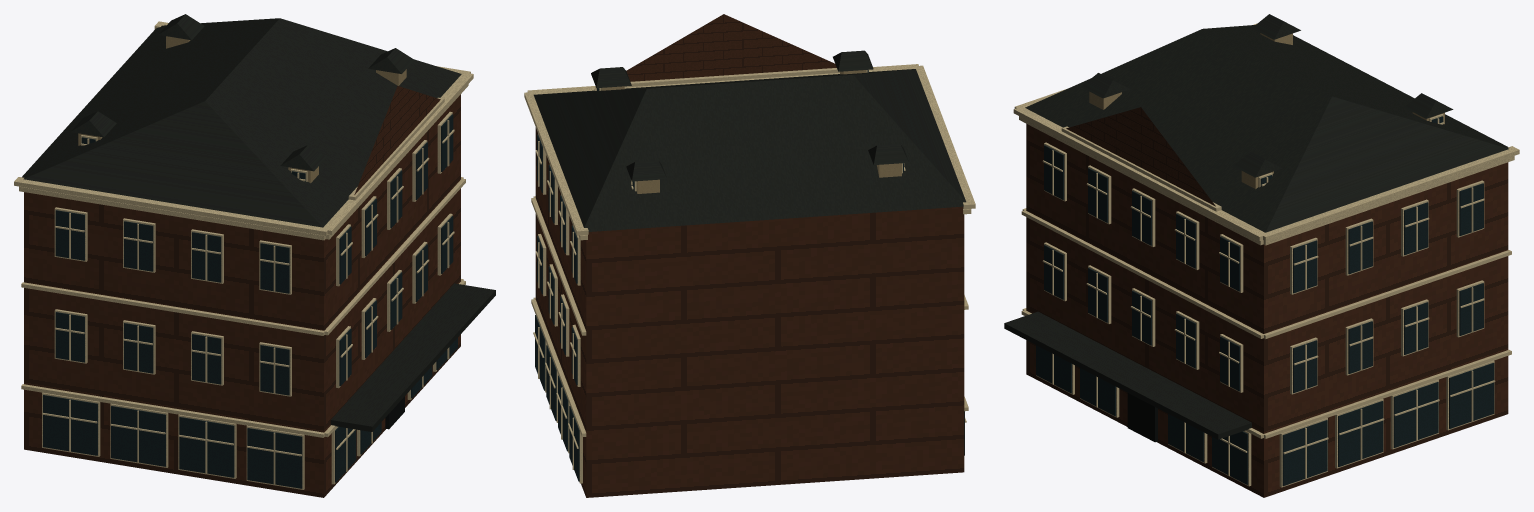
3 renders of one model, left to right at view 1: azimuth 30°, elevation 25°; view 2: azimuth 150°, elevation 25°; view 3: azimuth 270°, elevation 25°, orthographic. The views are drawn at different scales.
Visible parts, largest first — view 1: binnenrotte-straatwand-0, binnenrotte-straatwand-1, binnenrotte-straatwand-3, binnenrotte-straatwand-2, binnenrotte-straatwand-5; view 2: binnenrotte-straatwand-0, binnenrotte-straatwand-1, binnenrotte-straatwand-2, binnenrotte-straatwand-3, binnenrotte-straatwand-5; view 3: binnenrotte-straatwand-0, binnenrotte-straatwand-1, binnenrotte-straatwand-3, binnenrotte-straatwand-2, binnenrotte-straatwand-4, binnenrotte-straatwand-5.
Part boxes in pixels (bbox=[...]): binnenrotte-straatwand-0: bbox=[24, 86, 460, 497]; binnenrotte-straatwand-1: bbox=[22, 14, 495, 431]; binnenrotte-straatwand-3: bbox=[43, 114, 457, 488]; binnenrotte-straatwand-2: bbox=[14, 21, 473, 489]; binnenrotte-straatwand-5: bbox=[78, 36, 406, 183]; binnenrotte-straatwand-0: bbox=[535, 14, 964, 497]; binnenrotte-straatwand-1: bbox=[533, 50, 966, 231]; binnenrotte-straatwand-2: bbox=[524, 64, 975, 483]; binnenrotte-straatwand-3: bbox=[535, 70, 964, 481]; binnenrotte-straatwand-5: bbox=[601, 70, 901, 193]; binnenrotte-straatwand-0: bbox=[1026, 107, 1508, 497]; binnenrotte-straatwand-1: bbox=[1004, 14, 1508, 439]; binnenrotte-straatwand-3: bbox=[1036, 116, 1494, 486]; binnenrotte-straatwand-2: bbox=[1013, 23, 1519, 487]; binnenrotte-straatwand-4: bbox=[1127, 393, 1157, 442]; binnenrotte-straatwand-5: bbox=[1089, 33, 1444, 189].
Bounding box in the file's own units: 26.24 × 18.6 × 26.21.
Materials: 6 (6 with a texture image).
